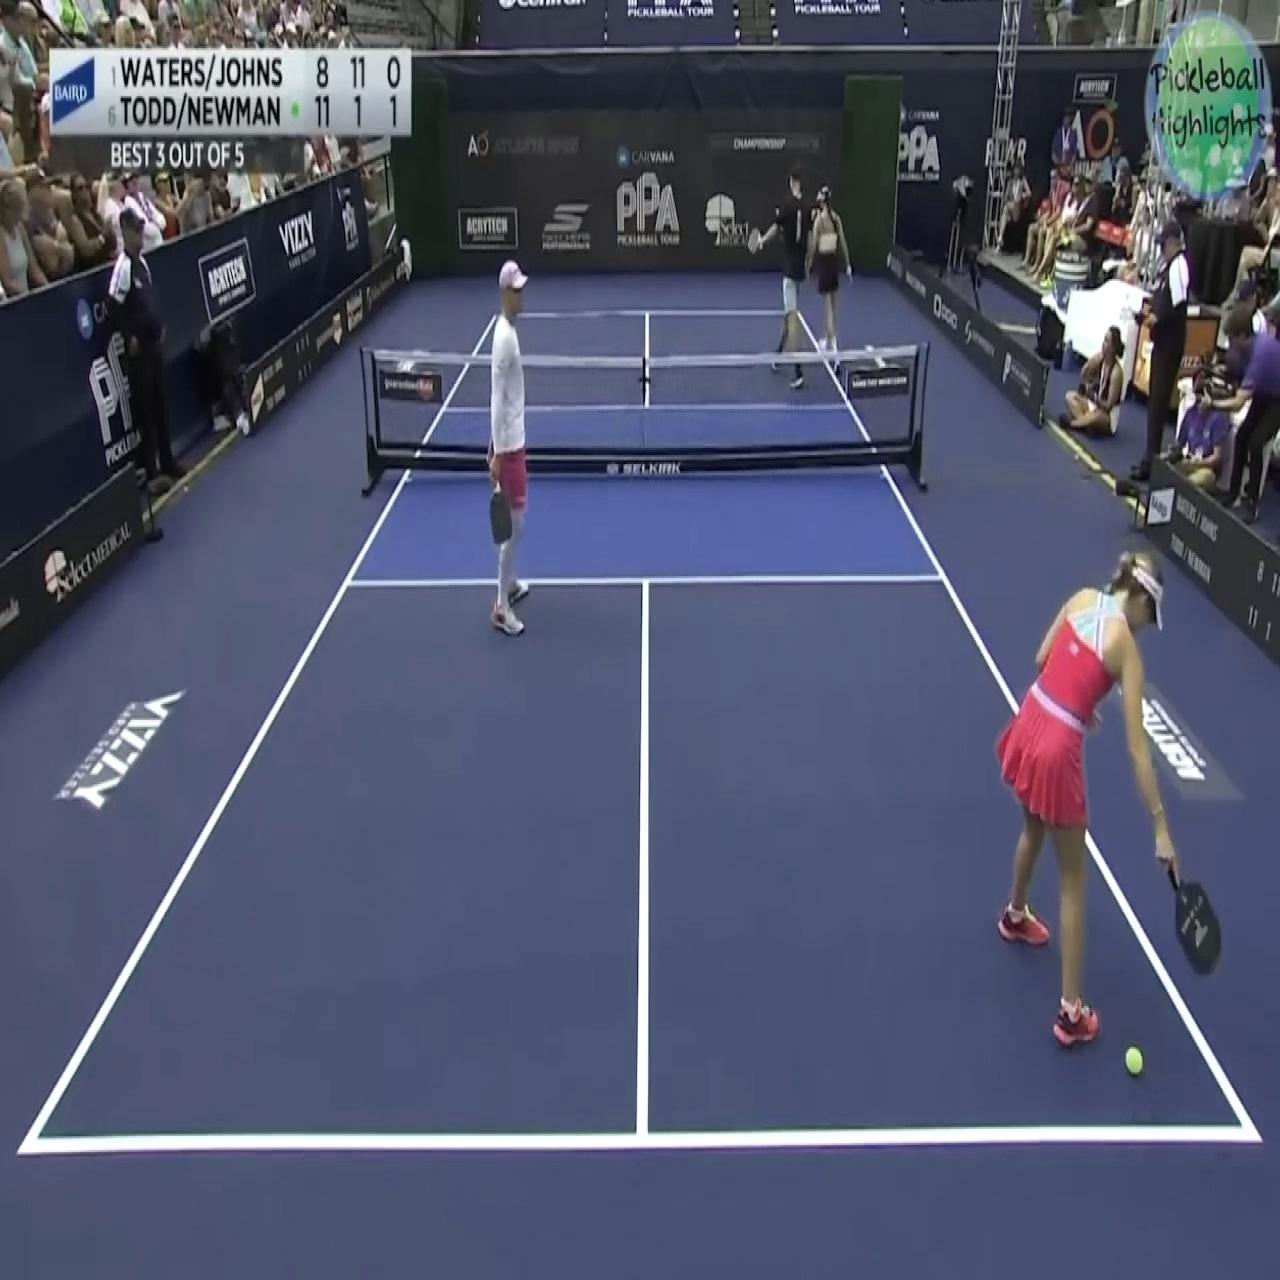Pickleball: (1123, 1044, 1143, 1074)
